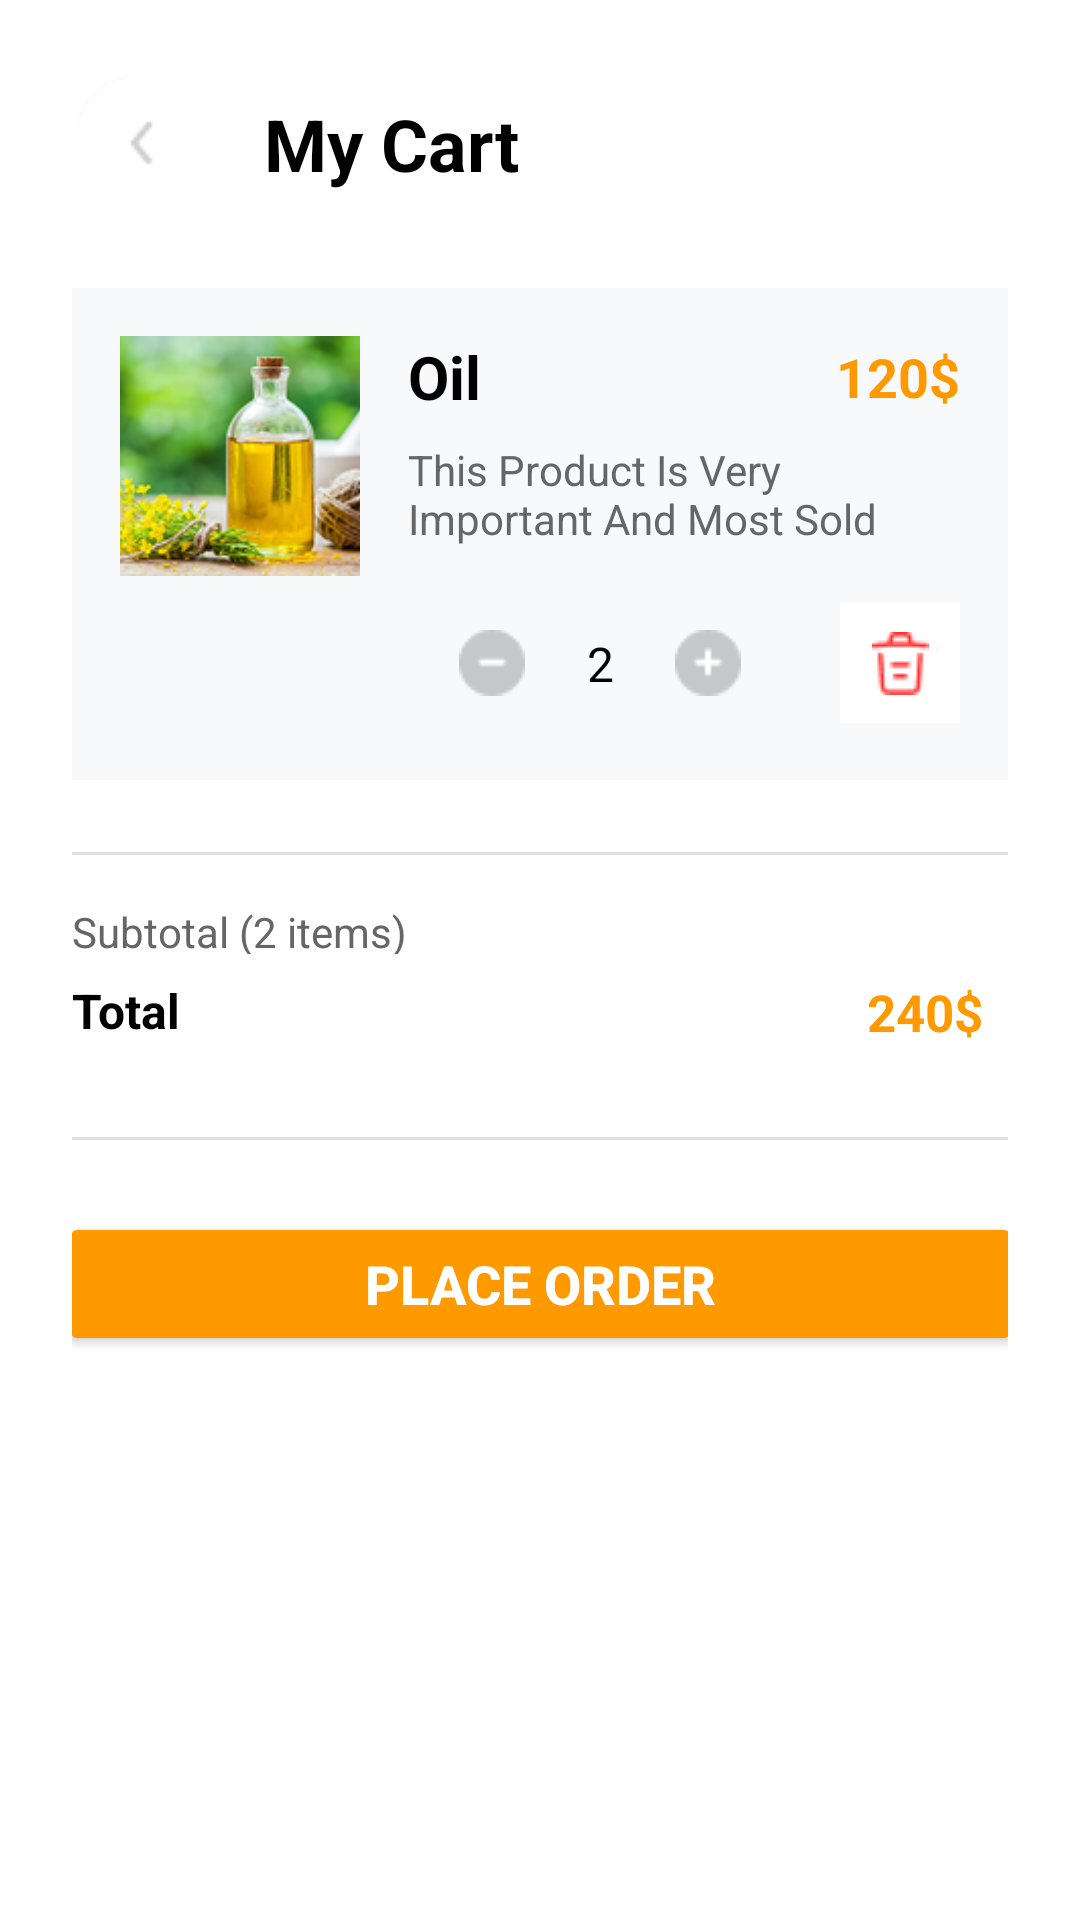

Icons on this 1080w x 1920h Android screen, each with the point to tap as [x,y]:
back: [141,143]
Decrease quantity: [492,663]
Delete item: [900,663]
Increase quantity: [708,663]
